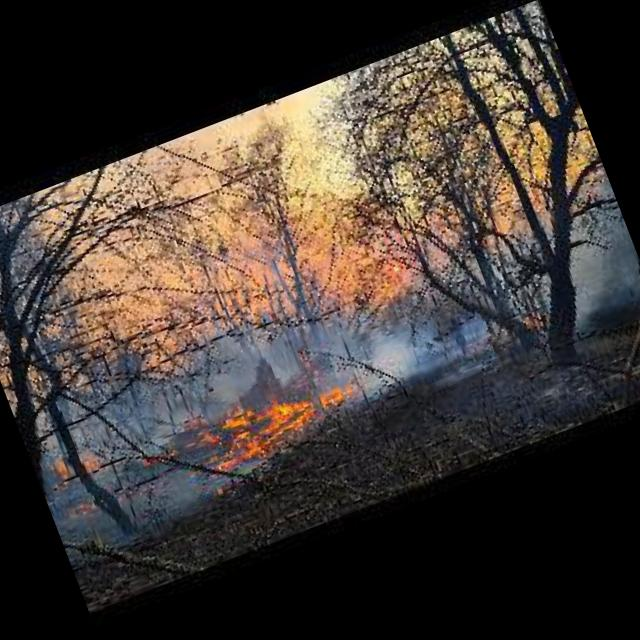fire: (182, 374, 320, 476), (316, 380, 356, 408), (44, 454, 75, 486), (79, 451, 100, 472)
